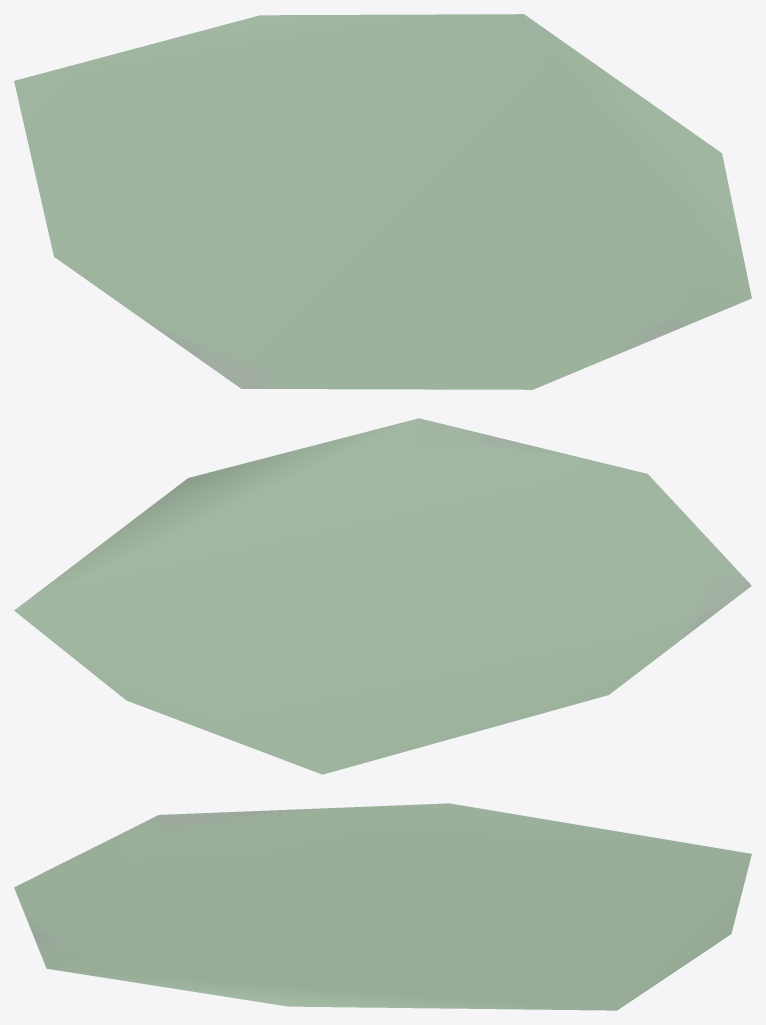
The model's file is TROLLHOLE02_HOLECAP139.fbx.
3 renders of one model, top to bottom at view 1: azimuth 30°, elevation 25°; view 2: azimuth 150°, elevation 25°; view 3: azimuth 270°, elevation 25°, orthographic. The views are drawn at different scales.
Parts seen in each view (by area): view 1: TROLLHOLE02_HOLECAP139; view 2: TROLLHOLE02_HOLECAP139; view 3: TROLLHOLE02_HOLECAP139.
Boxes of the visible parts, bbox=[...] form: TROLLHOLE02_HOLECAP139: bbox=[14, 14, 751, 389]; TROLLHOLE02_HOLECAP139: bbox=[14, 418, 751, 774]; TROLLHOLE02_HOLECAP139: bbox=[14, 803, 751, 1010].
Bounding box in the file's own units: 22422 × 1588 × 30105.
1 material, 1 textured.
